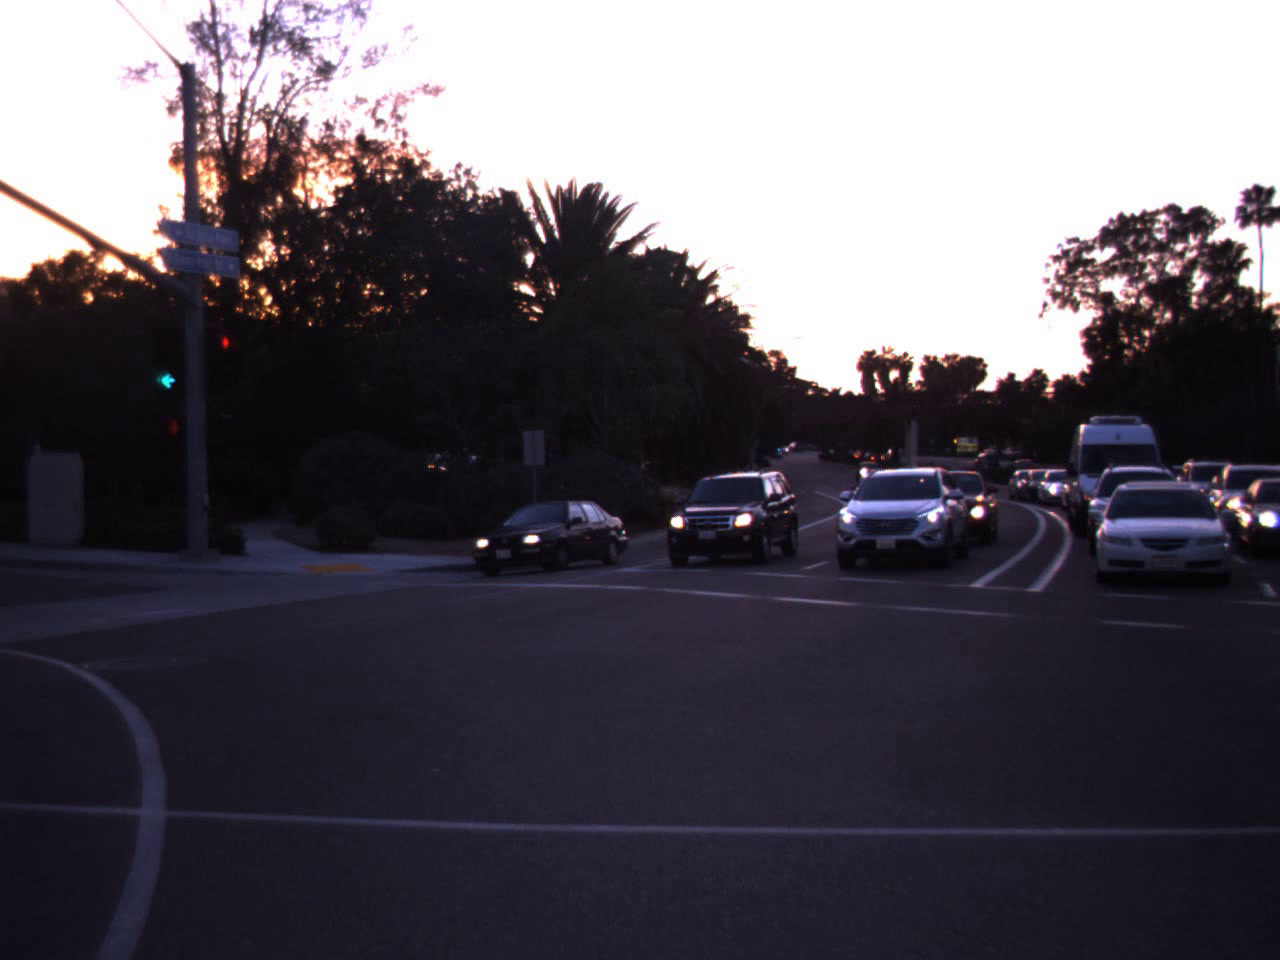go: (136, 307, 196, 397)
